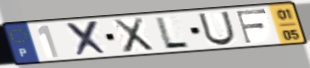1: (37, 24, 61, 58)
F: (235, 8, 269, 45)
L: (154, 16, 192, 49)
U: (196, 10, 238, 47)
X: (64, 19, 111, 58), (111, 16, 156, 55)
